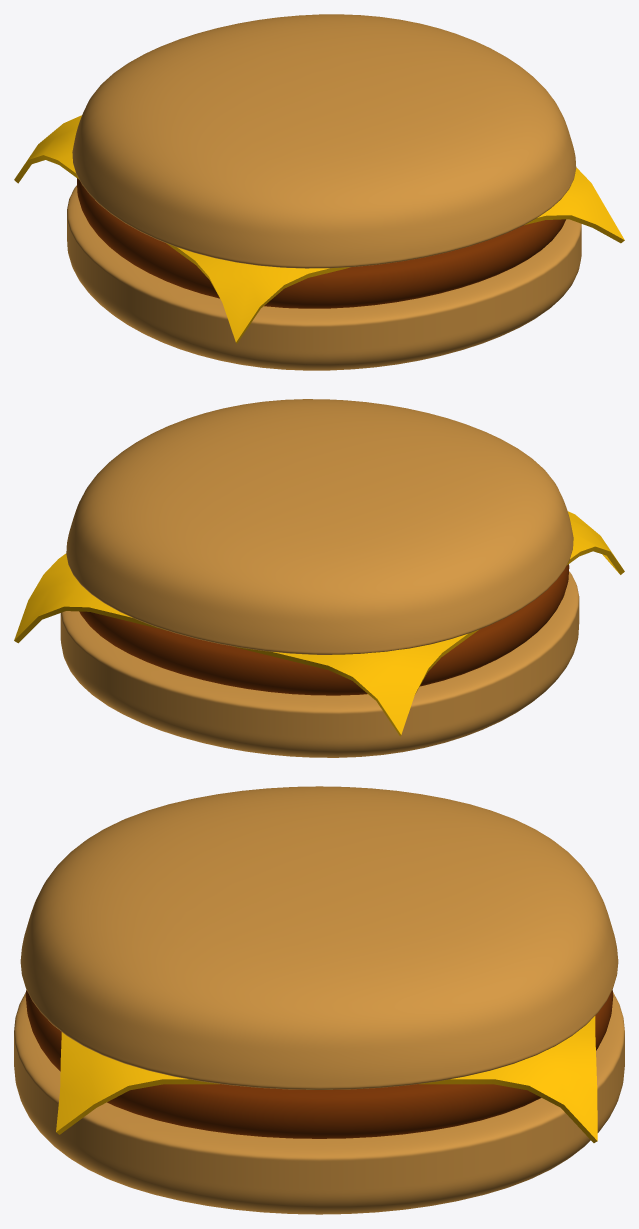
The model's file is hamburger.glb.
The picture shows the model from 3 angles, top to bottom: view 1: azimuth 30°, elevation 25°; view 2: azimuth 150°, elevation 25°; view 3: azimuth 270°, elevation 25°; orthographic projection. The views are drawn at different scales.
Visible parts, largest first — view 1: Cube.002, Cube, Cube.001, Plane; view 2: Cube.002, Cube, Cube.001, Plane; view 3: Cube.002, Cube, Cube.001, Plane.
Boxes of the visible parts, <box> form: Cube.002: <box>72,14,576,268</box>; Cube: <box>67,185,581,370</box>; Cube.001: <box>77,178,565,308</box>; Plane: <box>14,115,624,343</box>; Cube.002: <box>66,399,573,654</box>; Cube: <box>60,571,579,757</box>; Cube.001: <box>79,564,569,695</box>; Plane: <box>14,511,624,736</box>; Cube.002: <box>20,786,618,1089</box>; Cube: <box>14,992,624,1214</box>; Cube.001: <box>25,990,613,1138</box>; Plane: <box>56,1016,597,1142</box>.
Bounding box in the file's own units: 7.35 × 3.39 × 7.35.
